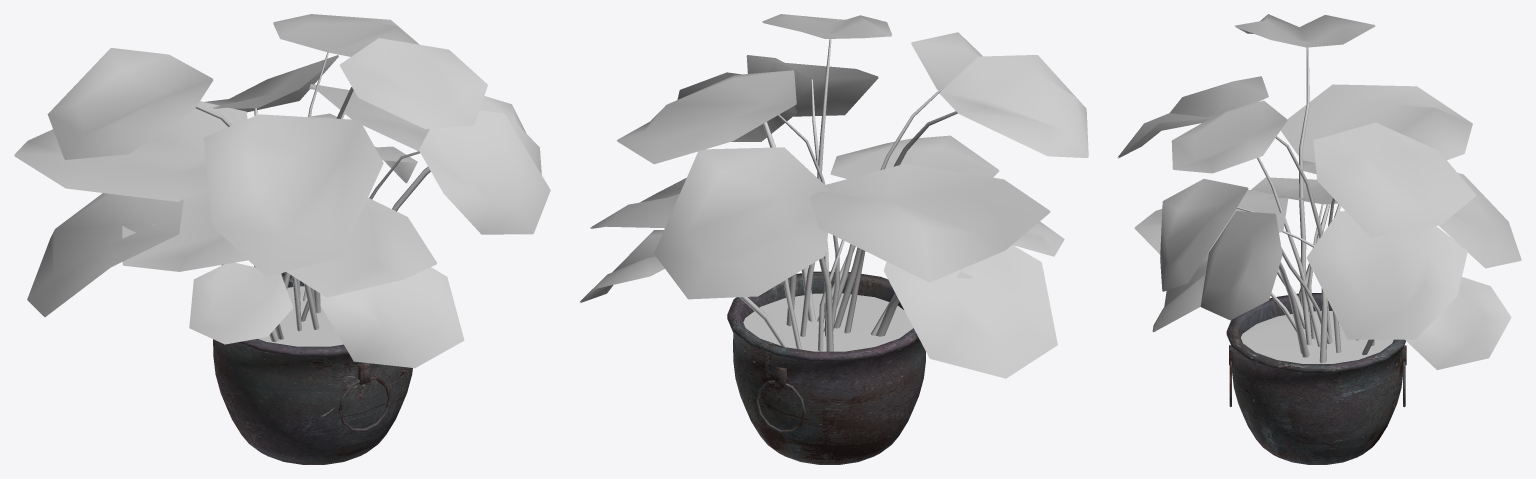
Rendered from SM_PlantJ.FBX.
3 views of the same model, side by side, from view 1: azimuth 30°, elevation 25°; view 2: azimuth 150°, elevation 25°; view 3: azimuth 270°, elevation 25° (orthographic). The views are drawn at different scales.
Parts seen in each view (by area): view 1: SM_PlantJ_LOD0; view 2: SM_PlantJ_LOD0; view 3: SM_PlantJ_LOD0.
Boxes of the visible parts, <box> form: SM_PlantJ_LOD0: <box>14,14,550,464</box>; SM_PlantJ_LOD0: <box>580,14,1088,464</box>; SM_PlantJ_LOD0: <box>1117,14,1521,464</box>.
Size of what is drawn, in the model's own units: 93.14 by 81.61 by 84.48.
